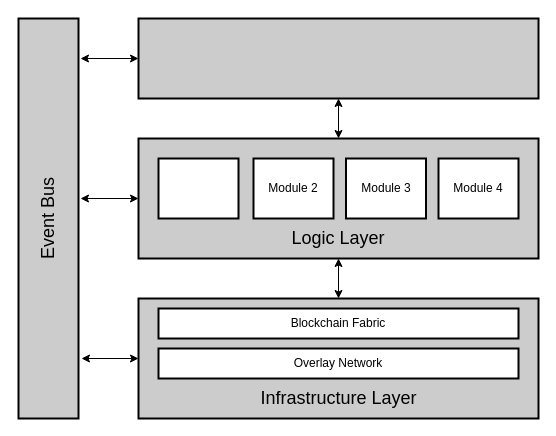
Image size: 556x436. Some labels were removed from this diagram. Here are the shapes that lost their labels. From the top down, the centre of each, then its label:
At point 338,58: "View Layer (Web-based)".
At point 198,188: "Module 1".
